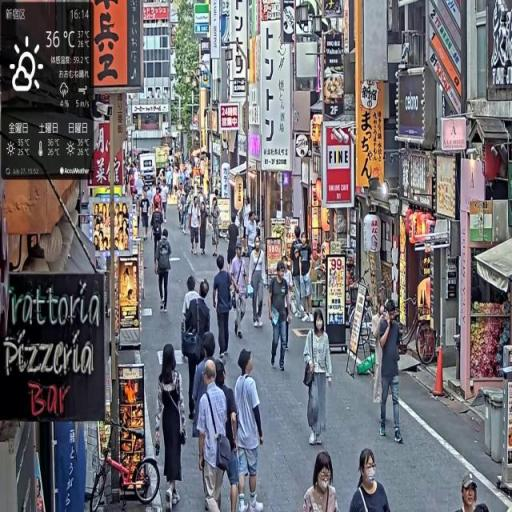person: (196, 361, 235, 512), (235, 350, 266, 512), (158, 342, 188, 509), (372, 300, 405, 445), (182, 272, 211, 425), (304, 310, 335, 451), (268, 259, 293, 374), (349, 448, 392, 512), (212, 252, 236, 363), (302, 451, 339, 512), (230, 243, 251, 340), (249, 235, 268, 330), (155, 228, 174, 315), (190, 198, 203, 256), (211, 196, 223, 257), (140, 187, 153, 241)
